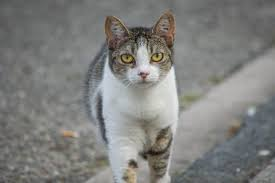cat: (86, 11, 191, 162)
